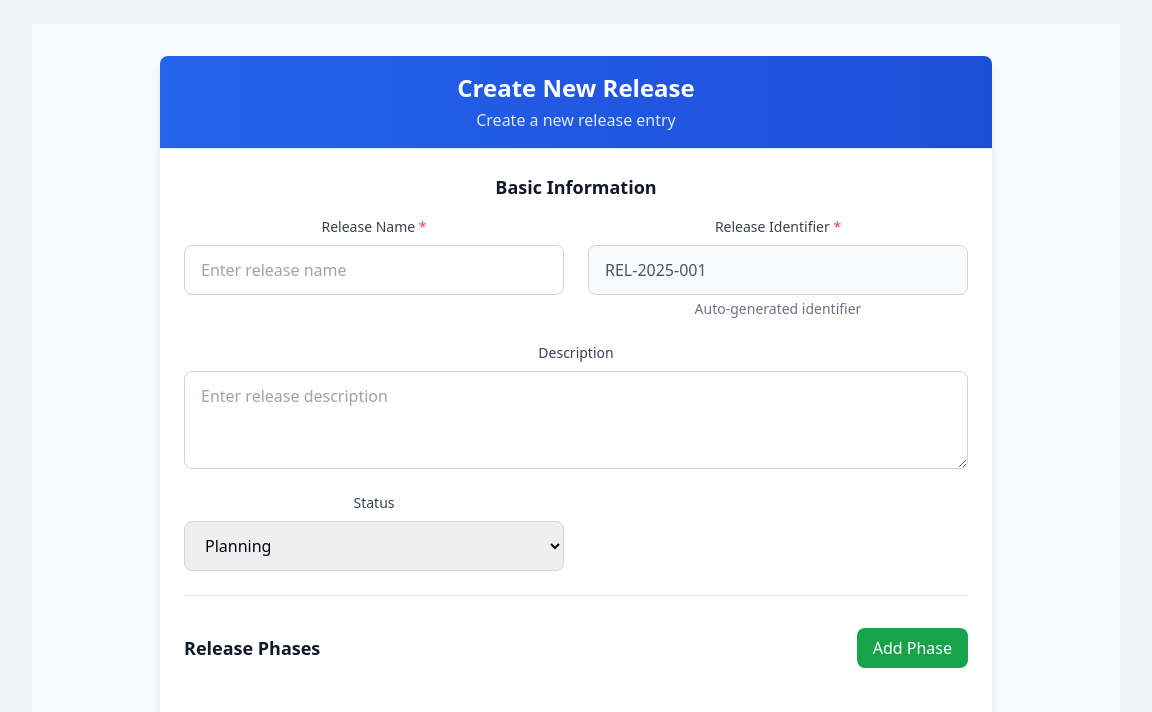
ReleaseForm › Phase Management › should add a phase when Add Phase button is clicked
Expected: the text "Phase 1:" is not shown
Click the button "Add Phase".
click(912, 648)  # box 857,628 -> 968,668
(page scrolled)
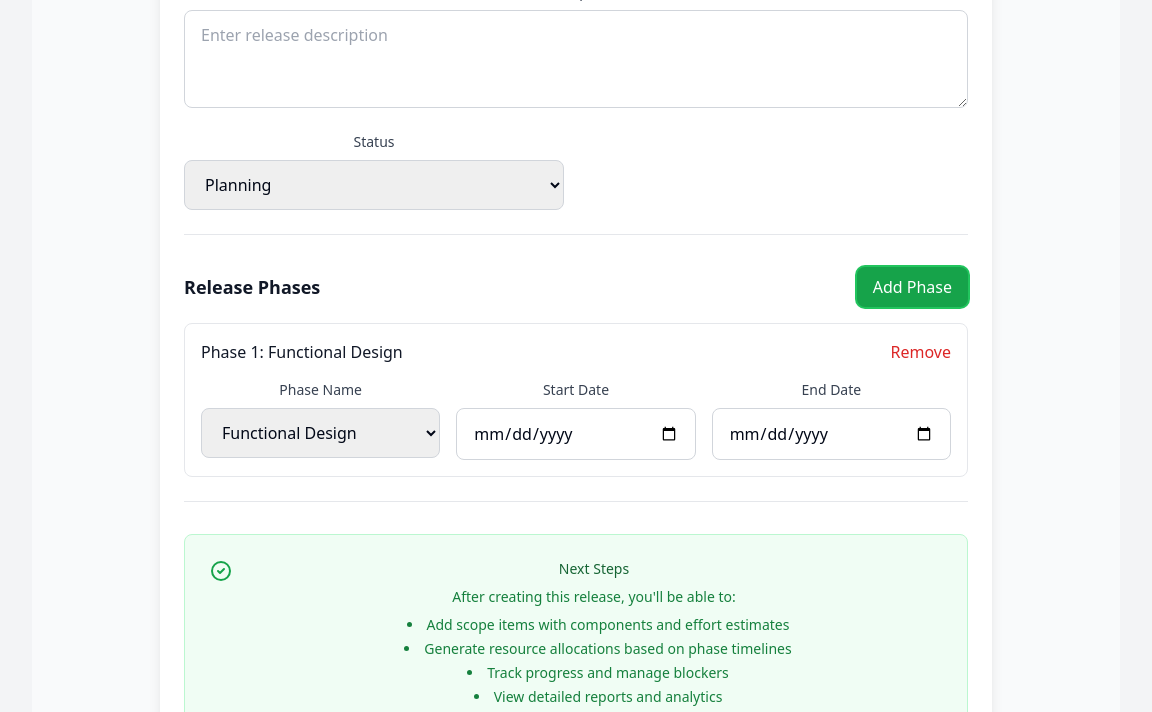
Now the heading "Phase 1: Functional Design" is shown, box 201,340 -> 403,364
